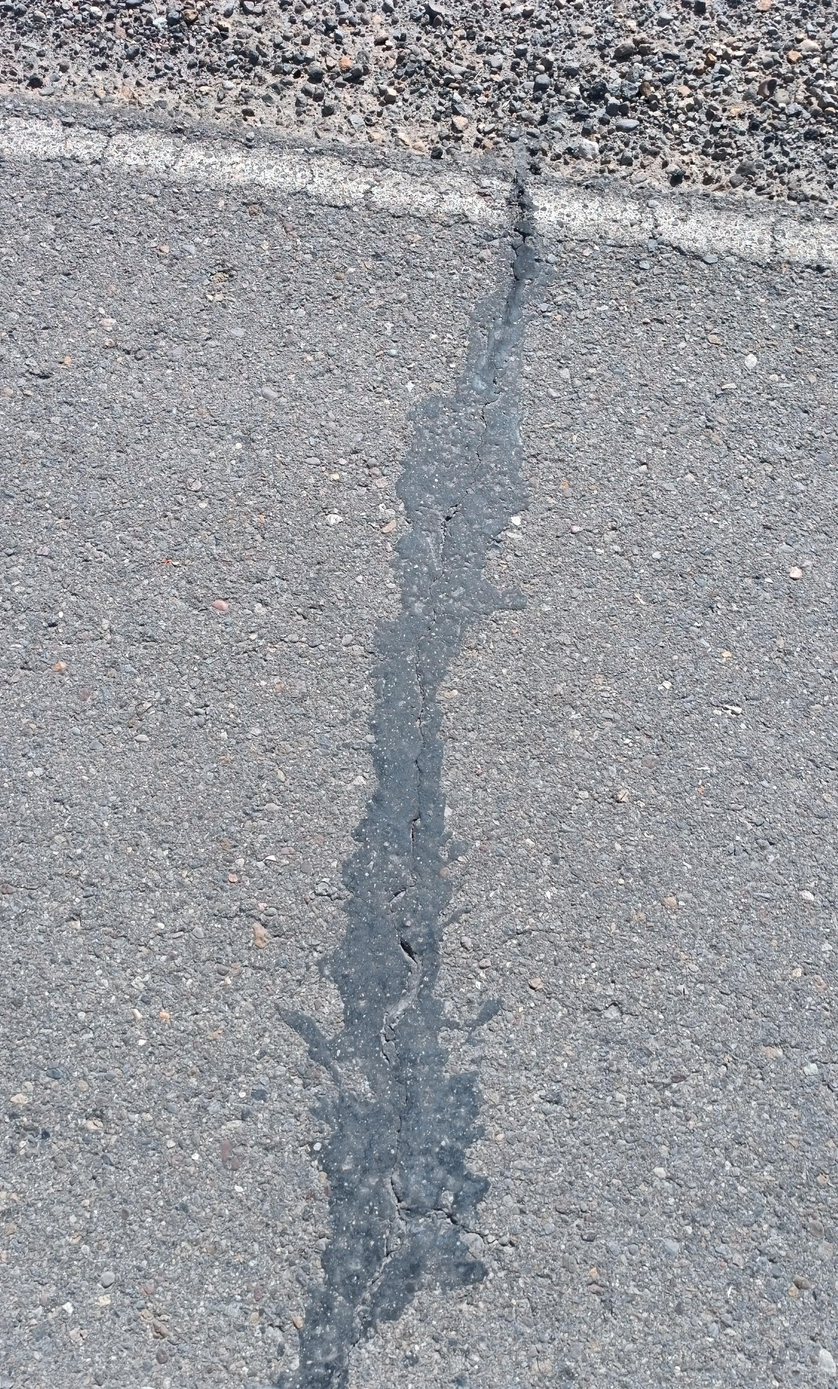GRIETA: (435, 396, 502, 561), (379, 879, 425, 1079), (495, 177, 529, 347)
